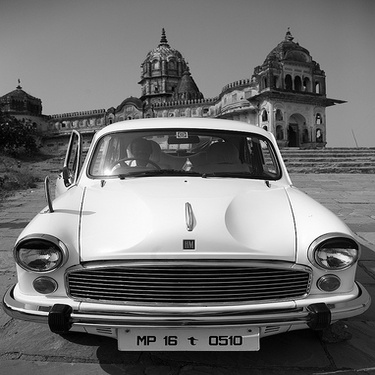car: (11, 110, 370, 338)
